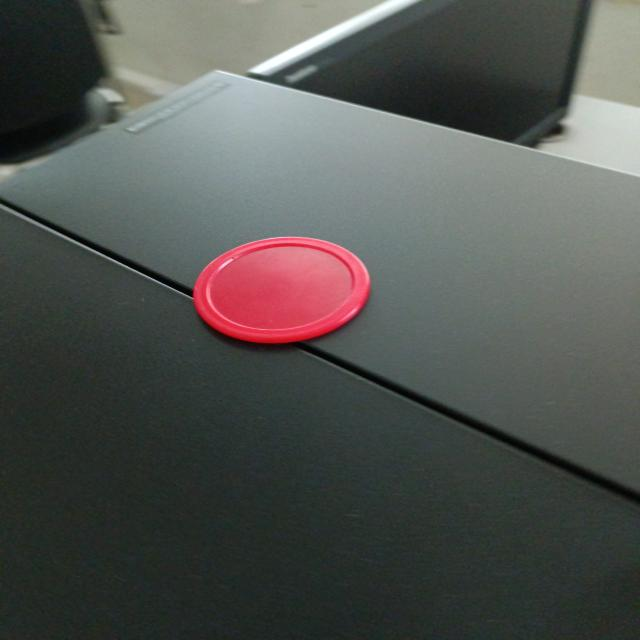chip: (189, 232, 378, 347)
